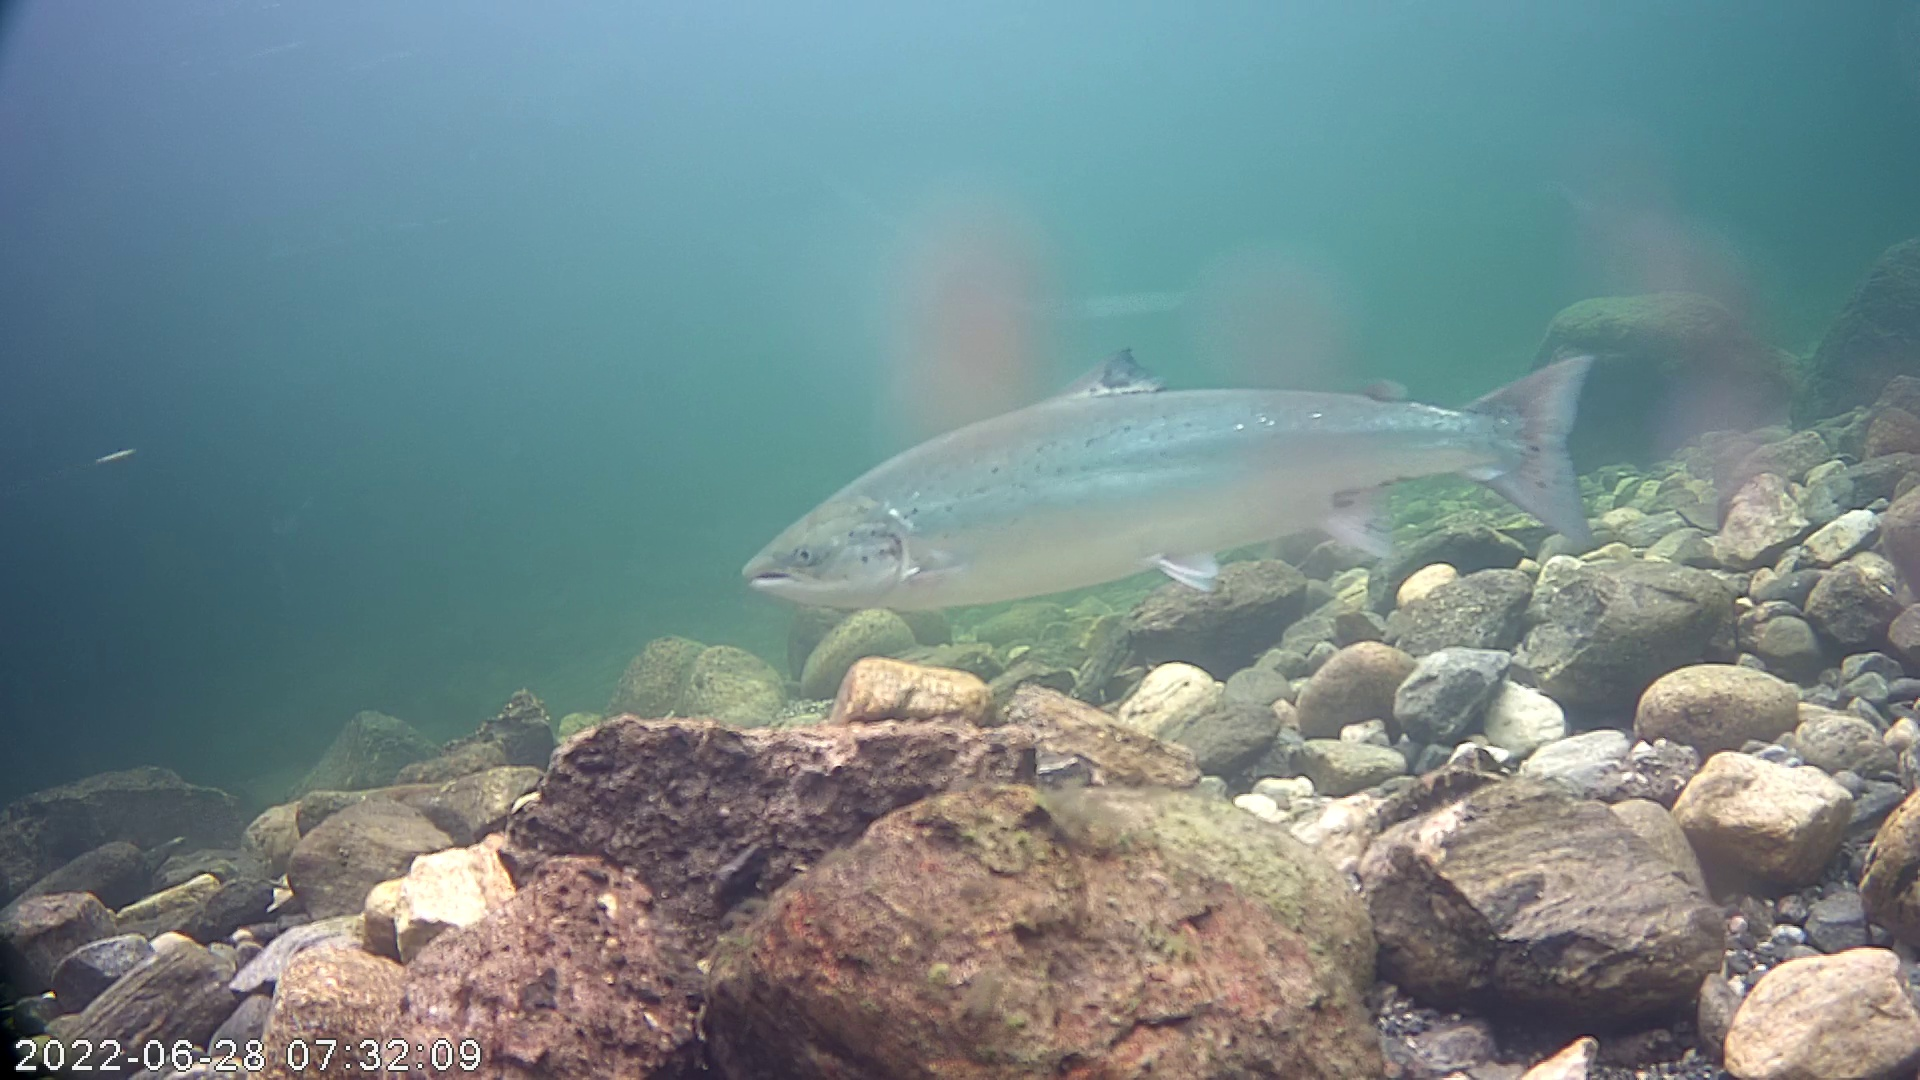salmon: (728, 244, 1621, 665)
